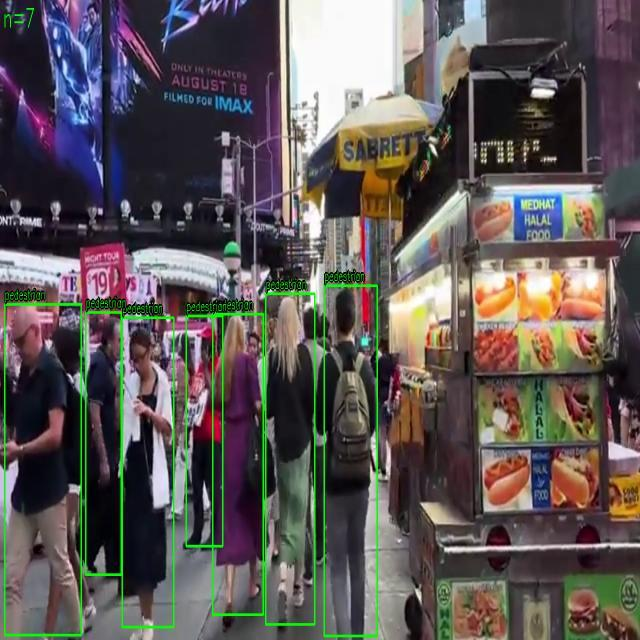with scooter: (4, 304, 82, 636), (324, 286, 378, 636), (265, 293, 315, 625), (122, 318, 174, 628), (212, 314, 264, 615), (85, 312, 122, 575), (186, 316, 223, 546)
